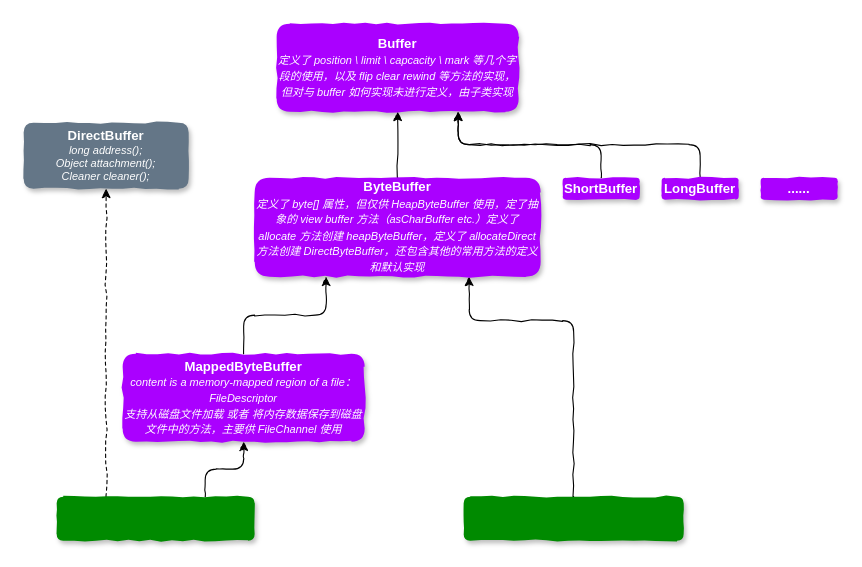
This 862x567 diagram has some shape labels left out. Each missing label, with the centre of its shape:
DirectByteBuffer 通过 UnSafe 类 直接管理堆外内存: [156,520]
HeapByteBuffer 基于内存的 byte[] 实现父类的所有抽象方法: [574,520]
